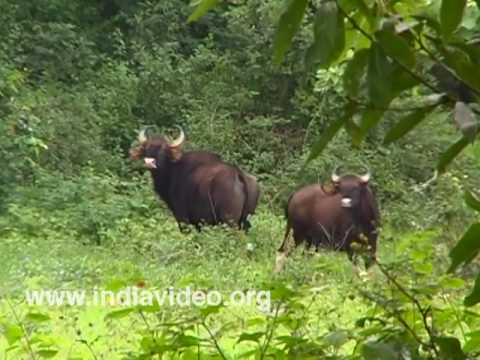bison: (132, 118, 259, 246), (280, 164, 384, 268)
